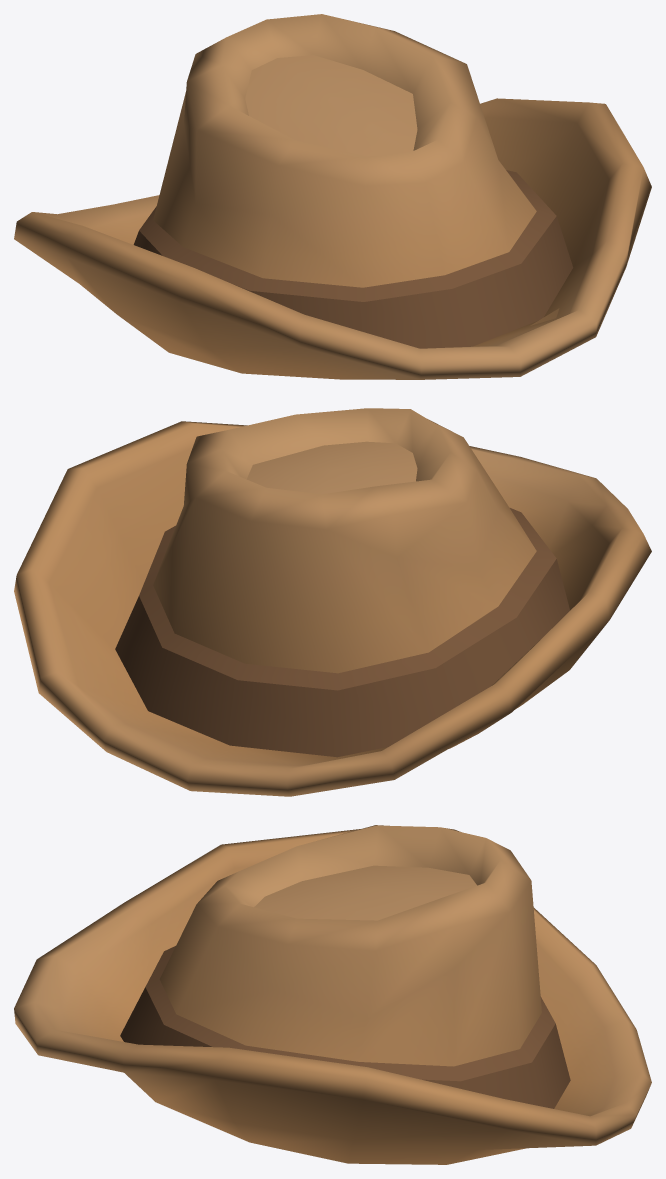
The model's file is Headgear_14.fbx.
3 views of the same model, one above another, from view 1: azimuth 30°, elevation 25°; view 2: azimuth 150°, elevation 25°; view 3: azimuth 270°, elevation 25° (orthographic). The views are drawn at different scales.
Parts seen in each view (by area): view 1: Headgear_14; view 2: Headgear_14; view 3: Headgear_14.
Part boxes in pixels (bbox=[...]): Headgear_14: bbox=[14, 14, 651, 379]; Headgear_14: bbox=[14, 408, 651, 796]; Headgear_14: bbox=[14, 825, 651, 1164].
Bounding box in the file's own units: 95.69 × 42.93 × 102.
